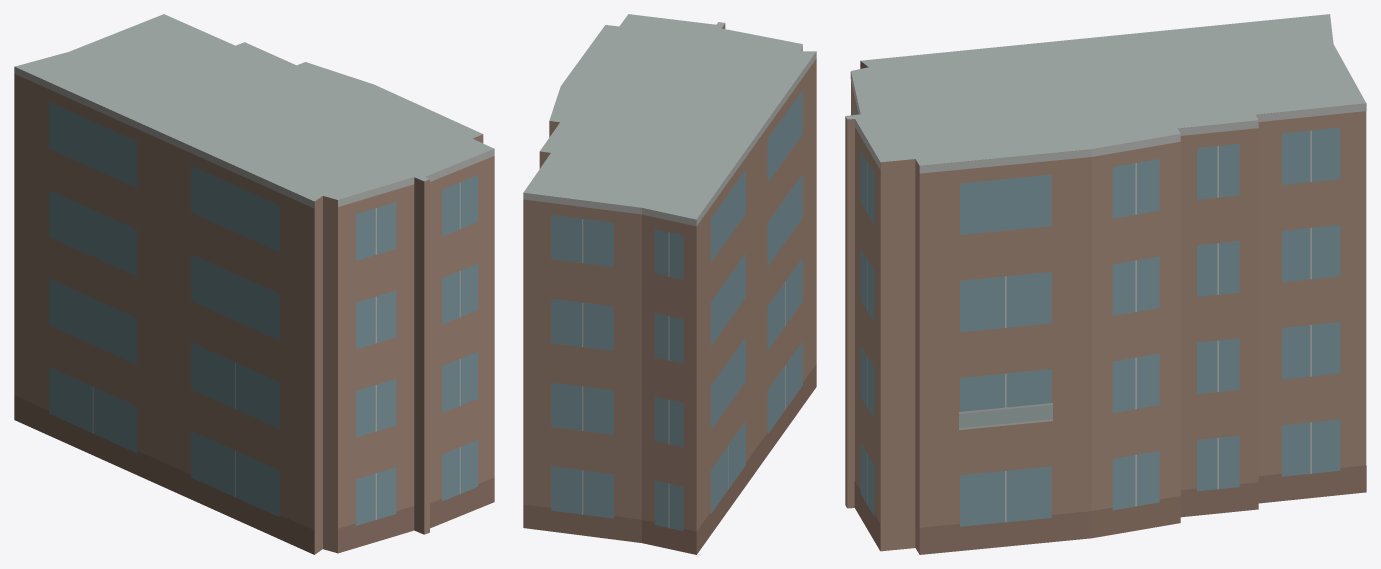
The model's file is survey-upis-32832792.glb.
3 views of the same model, side by side, from view 1: azimuth 30°, elevation 25°; view 2: azimuth 150°, elevation 25°; view 3: azimuth 270°, elevation 25° (orthographic). The views are drawn at different scales.
Parts seen in each view (by area): view 1: survey-upis-32832792.tmp; view 2: survey-upis-32832792.tmp; view 3: survey-upis-32832792.tmp.
Part boxes in pixels (box(x1,y1,x2,y2)): survey-upis-32832792.tmp: box(14, 14, 494, 554); survey-upis-32832792.tmp: box(523, 14, 816, 554); survey-upis-32832792.tmp: box(845, 14, 1366, 554).
Size of the model in its own units: 10.19 by 12.17 by 14.78.
